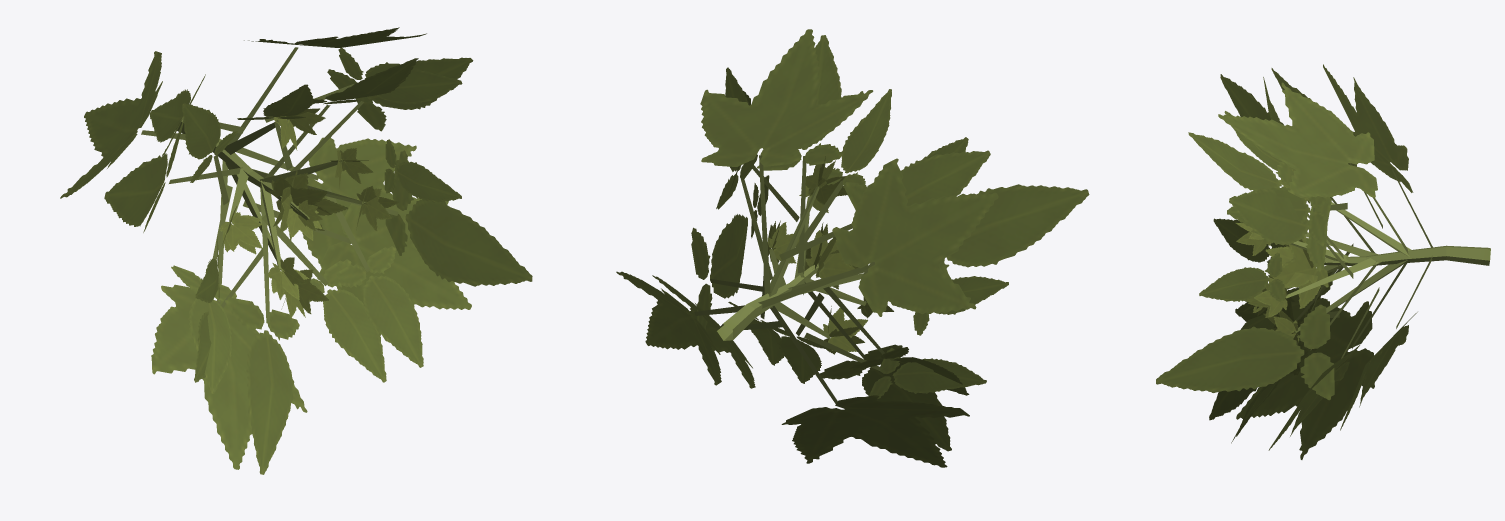
Rendered from p_afghan_vegetative_c1_cards.obj.
3 renders of one model, left to right at view 1: azimuth 30°, elevation 25°; view 2: azimuth 150°, elevation 25°; view 3: azimuth 270°, elevation 25°, orthographic. The views are drawn at different scales.
Bounding box in the file's own units: 1.18 × 1.17 × 0.807.
1 material, 1 textured.
